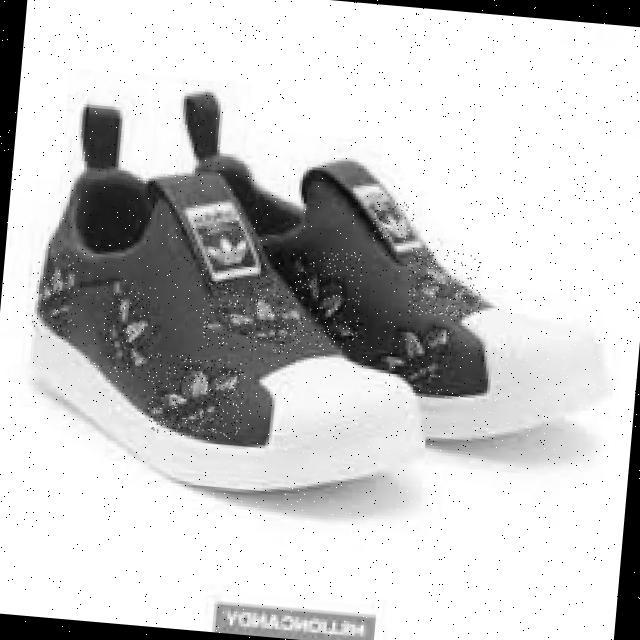Adidas: (146, 353, 247, 441), (199, 280, 310, 357), (367, 309, 456, 402), (285, 248, 364, 350), (97, 280, 159, 381), (405, 247, 484, 319), (26, 251, 84, 341), (193, 223, 252, 282), (371, 198, 415, 244)
